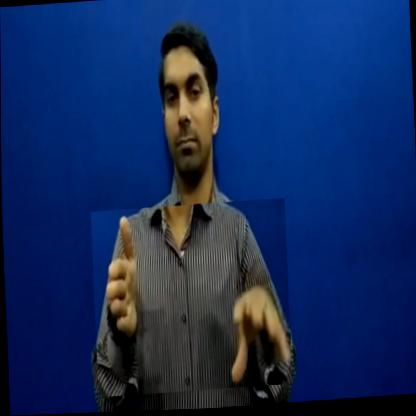Expensive: (91, 200, 292, 398)
